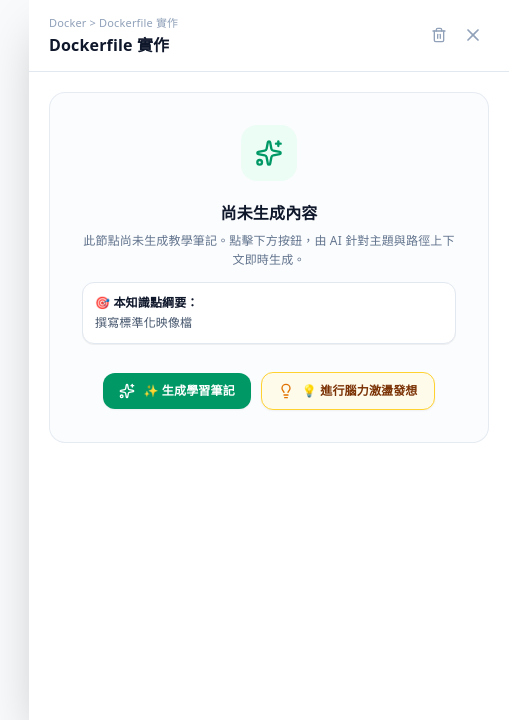
it: LessonDrawer & Progress State Machine (FR-04, FR-05 & AC-04) › 首次點選節點時顯示生成按鈕，點擊後呼叫 LLM API 並成功渲染引導式自由教學（含表格、圖解）與隨堂測驗
Expected: the heading "Dockerfile 實作" is shown, [49,33,178,57]
Expected: the text "Docker > Dockerfile 實作" is shown, [49,14,178,33]
# 點擊手動生成按鈕
Click the button "✨ 生成學習筆記". click: [177, 391]
box: [104,373,251,409]
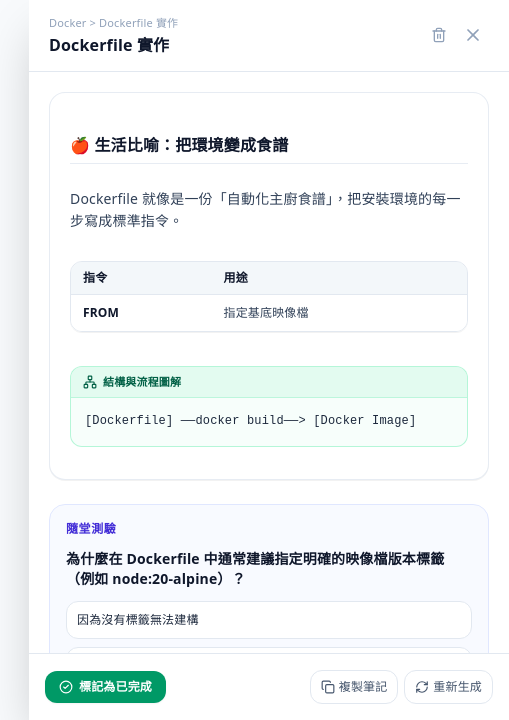
Result: the heading "🍎 生活比喻：把環境變成食譜" is shown at [70,133,468,164]
Result: the text "Dockerfile 就像是一份「自動化主廚食譜」，把安裝環境的每一步寫成標準指令。" is shown at [70,188,468,233]
Result: the text "指定基底映像檔" is shown at [212,295,467,331]
